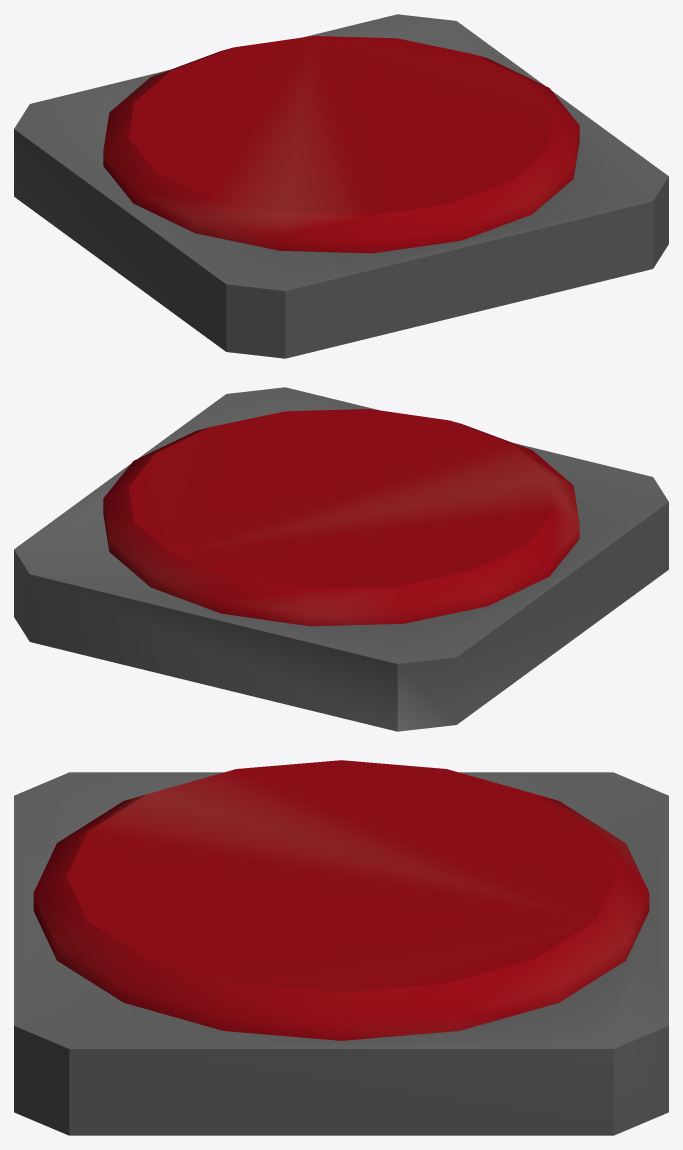
Rendered from fixedButton.fbx.
3 renders of one model, top to bottom at view 1: azimuth 30°, elevation 25°; view 2: azimuth 150°, elevation 25°; view 3: azimuth 270°, elevation 25°, orthographic. The views are drawn at different scales.
Parts seen in each view (by area): view 1: Cube, Cube.001; view 2: Cube, Cube.001; view 3: Cube, Cube.001.
Boxes of the visible parts, x1,y1,x2,y2 form: Cube: (103,36,579,253); Cube.001: (14,14,668,358); Cube: (103,409,579,626); Cube.001: (14,387,668,731); Cube: (33,760,649,1040); Cube.001: (14,772,668,1135).
Bounding box in the file's own units: 213 × 43.36 × 213.
